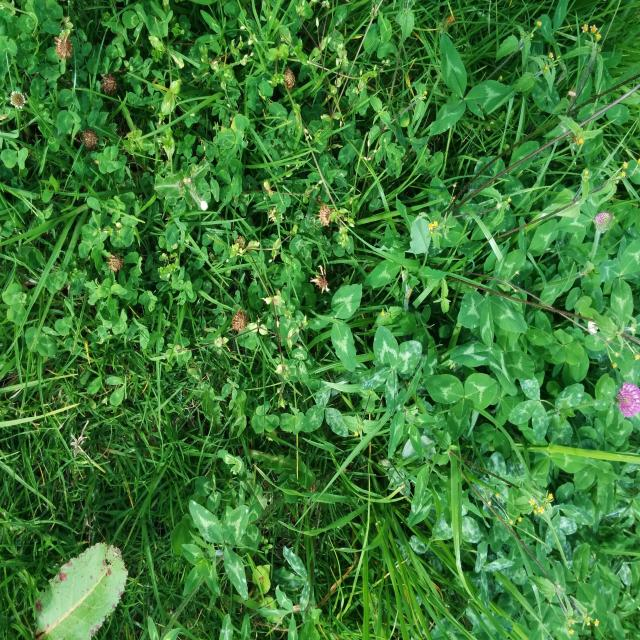Four Leaf Clover: (363, 328, 421, 416)
